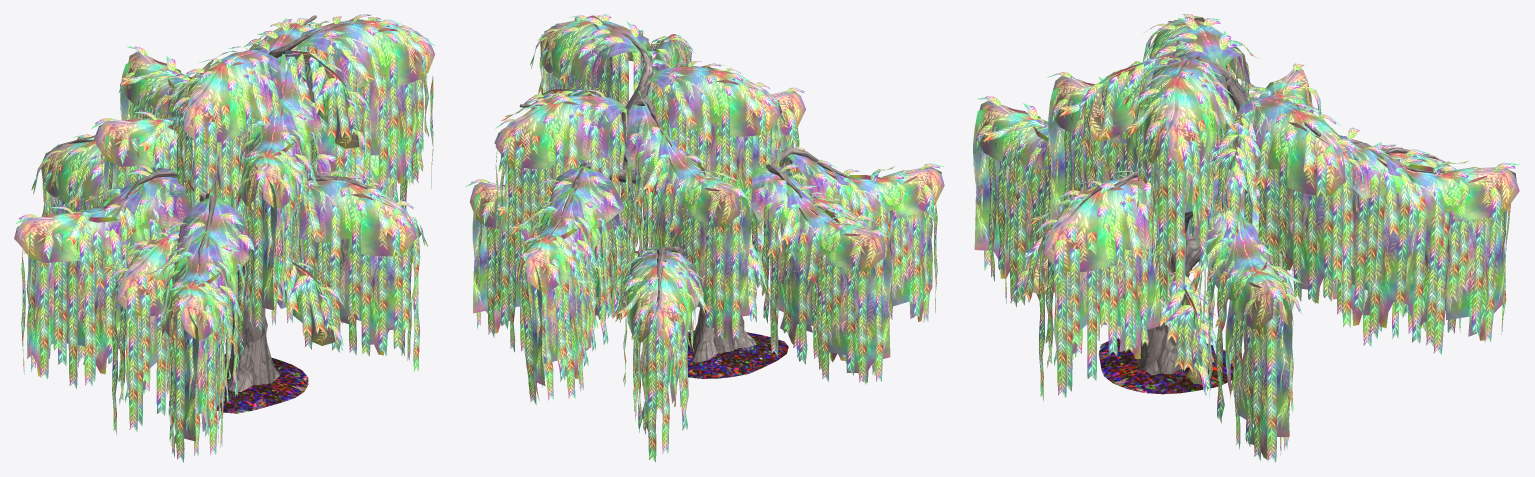
Rendered from willow_01_SM.fbx.
The picture shows the model from 3 angles, left to right: view 1: azimuth 30°, elevation 25°; view 2: azimuth 150°, elevation 25°; view 3: azimuth 270°, elevation 25°; orthographic projection. The views are drawn at different scales.
Parts seen in each view (by area): view 1: willow_01_SM_LOD0; view 2: willow_01_SM_LOD0; view 3: willow_01_SM_LOD0.
Part boxes in pixels (x1,y1,x2,y2): willow_01_SM_LOD0: [14, 14, 434, 462]; willow_01_SM_LOD0: [465, 14, 944, 462]; willow_01_SM_LOD0: [973, 14, 1520, 462].
Size of the model in its own units: 1672 by 1727 by 1302.
3 materials, 3 textured.
